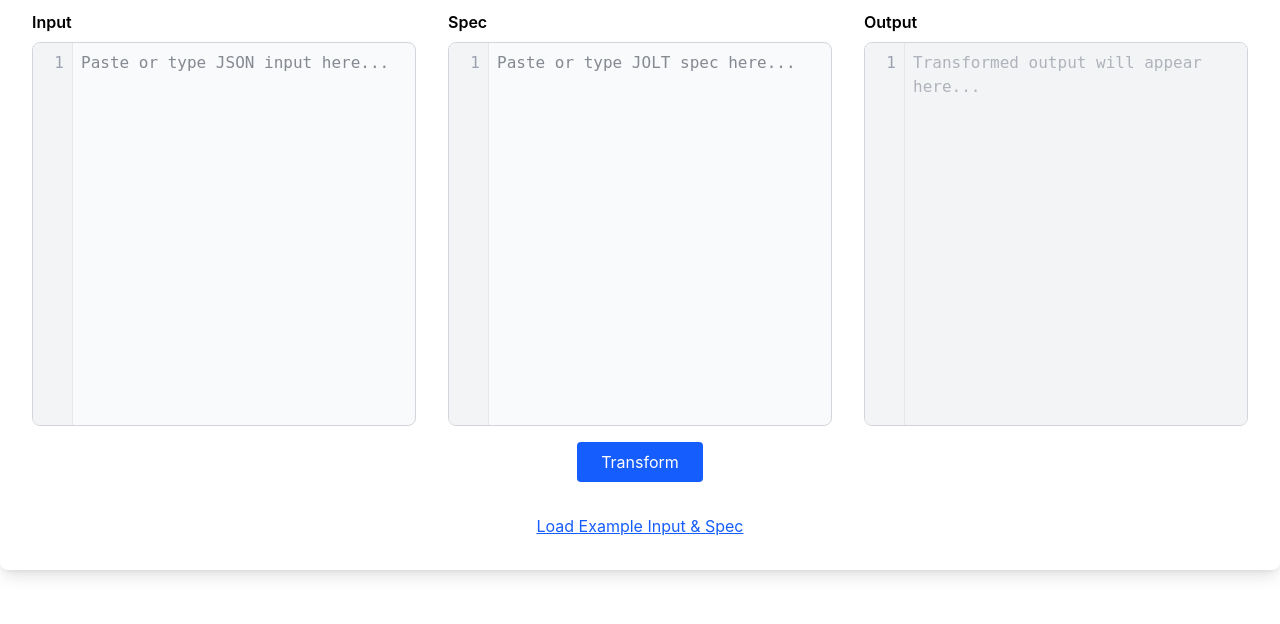
Test: TransformPage › shows an error when input is invalid JSON
Type "not-json" into the text box labelled "Input" at coordinates (244, 234), box [73, 43, 415, 425]
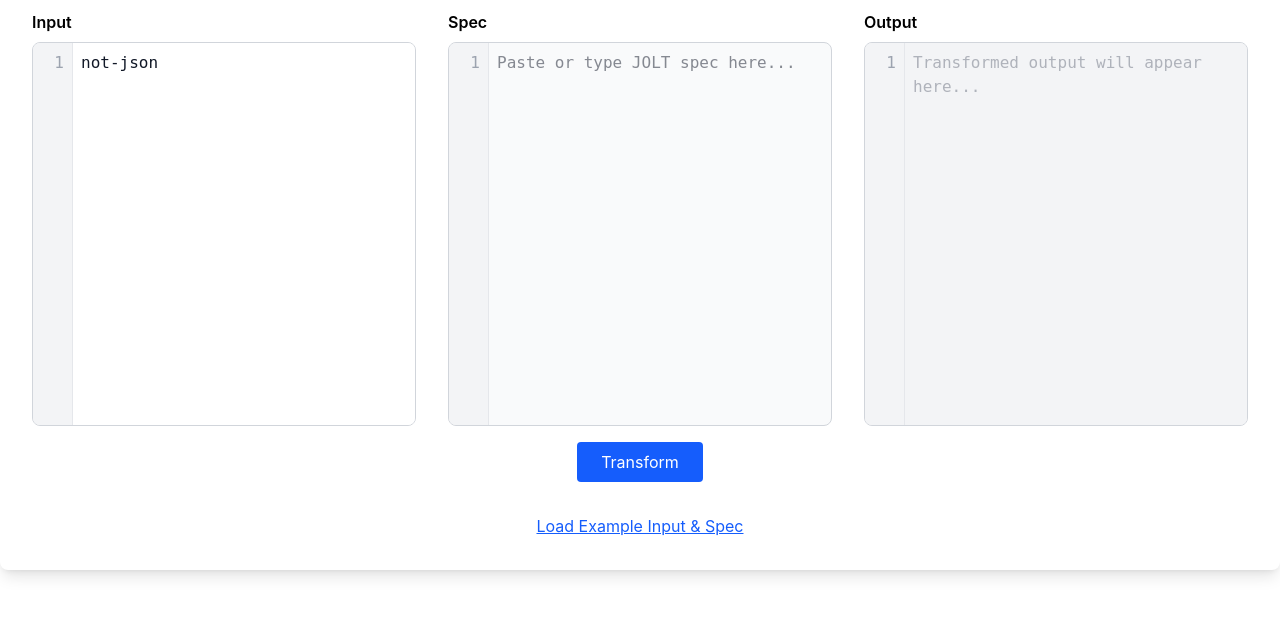
Click the button "Transform" at coordinates (640, 462), box [577, 442, 703, 482]
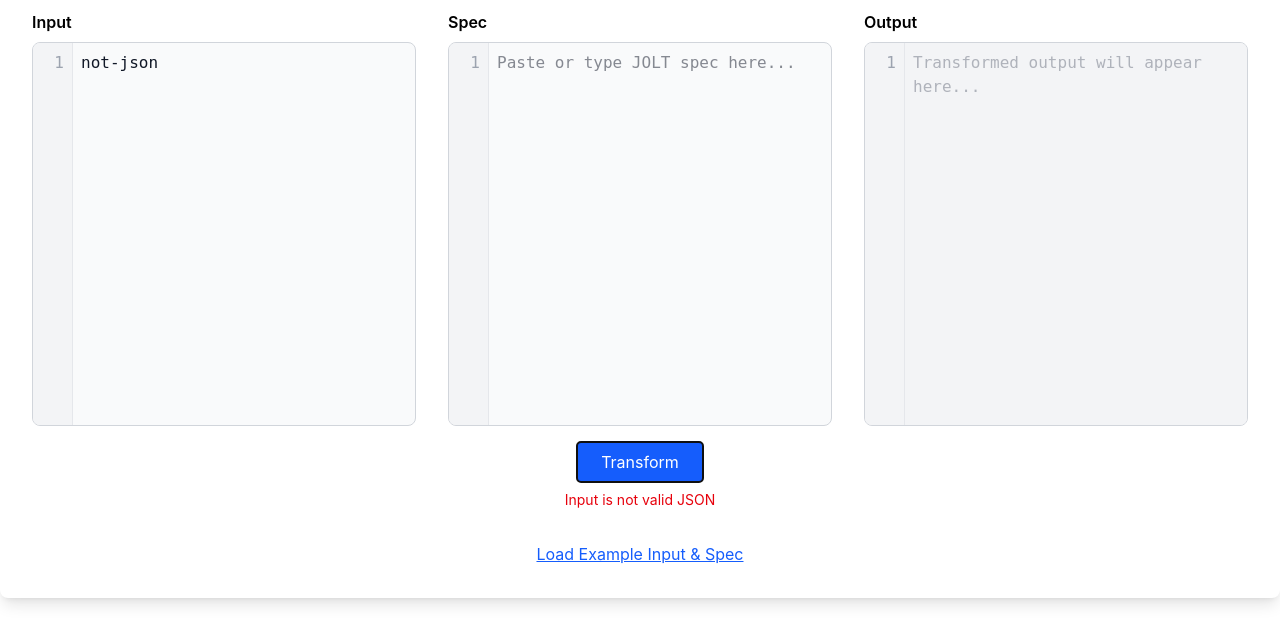
Check: the text "Input is not valid JSON" is shown, box [565, 490, 715, 510]
